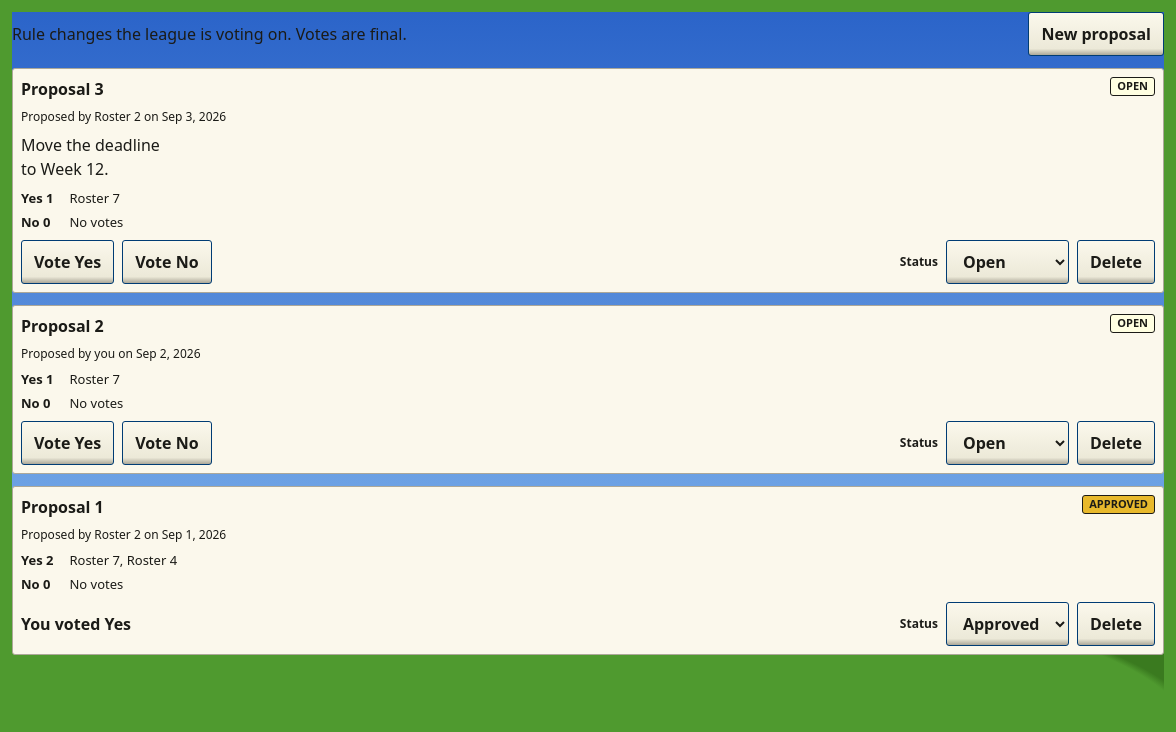
Proposals › gives an admin the status picker and re-sorts on a change
The width and height of the screenshot is (1176, 732).
Expected: the element "Proposal 3" is shown, [12, 68, 1164, 293]
Expected: the 1st button "Delete" is shown, [1077, 240, 1155, 284]
Select "Rejected" in the 1st dropdown labelled "Status" at (1008, 262), box [946, 240, 1069, 284]
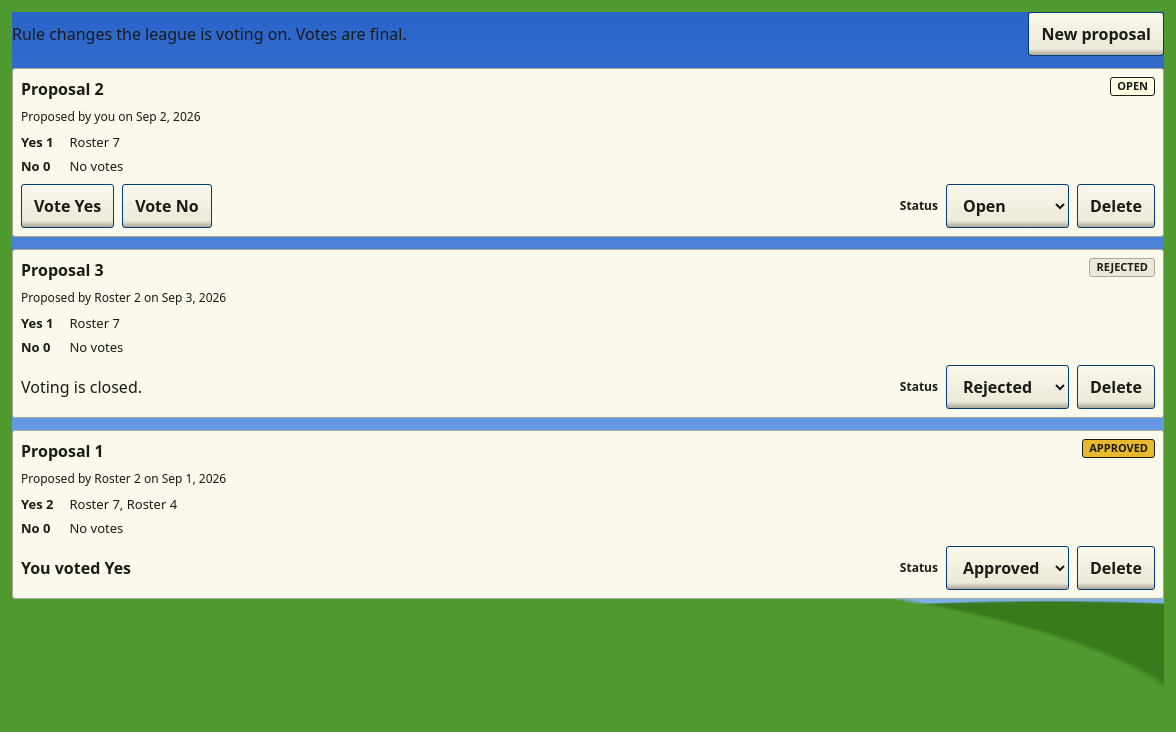
Expected: the heading "Proposal 3" is shown, [21, 259, 104, 281]
Result: the text "Voting is closed." is shown at [21, 375, 142, 399]
